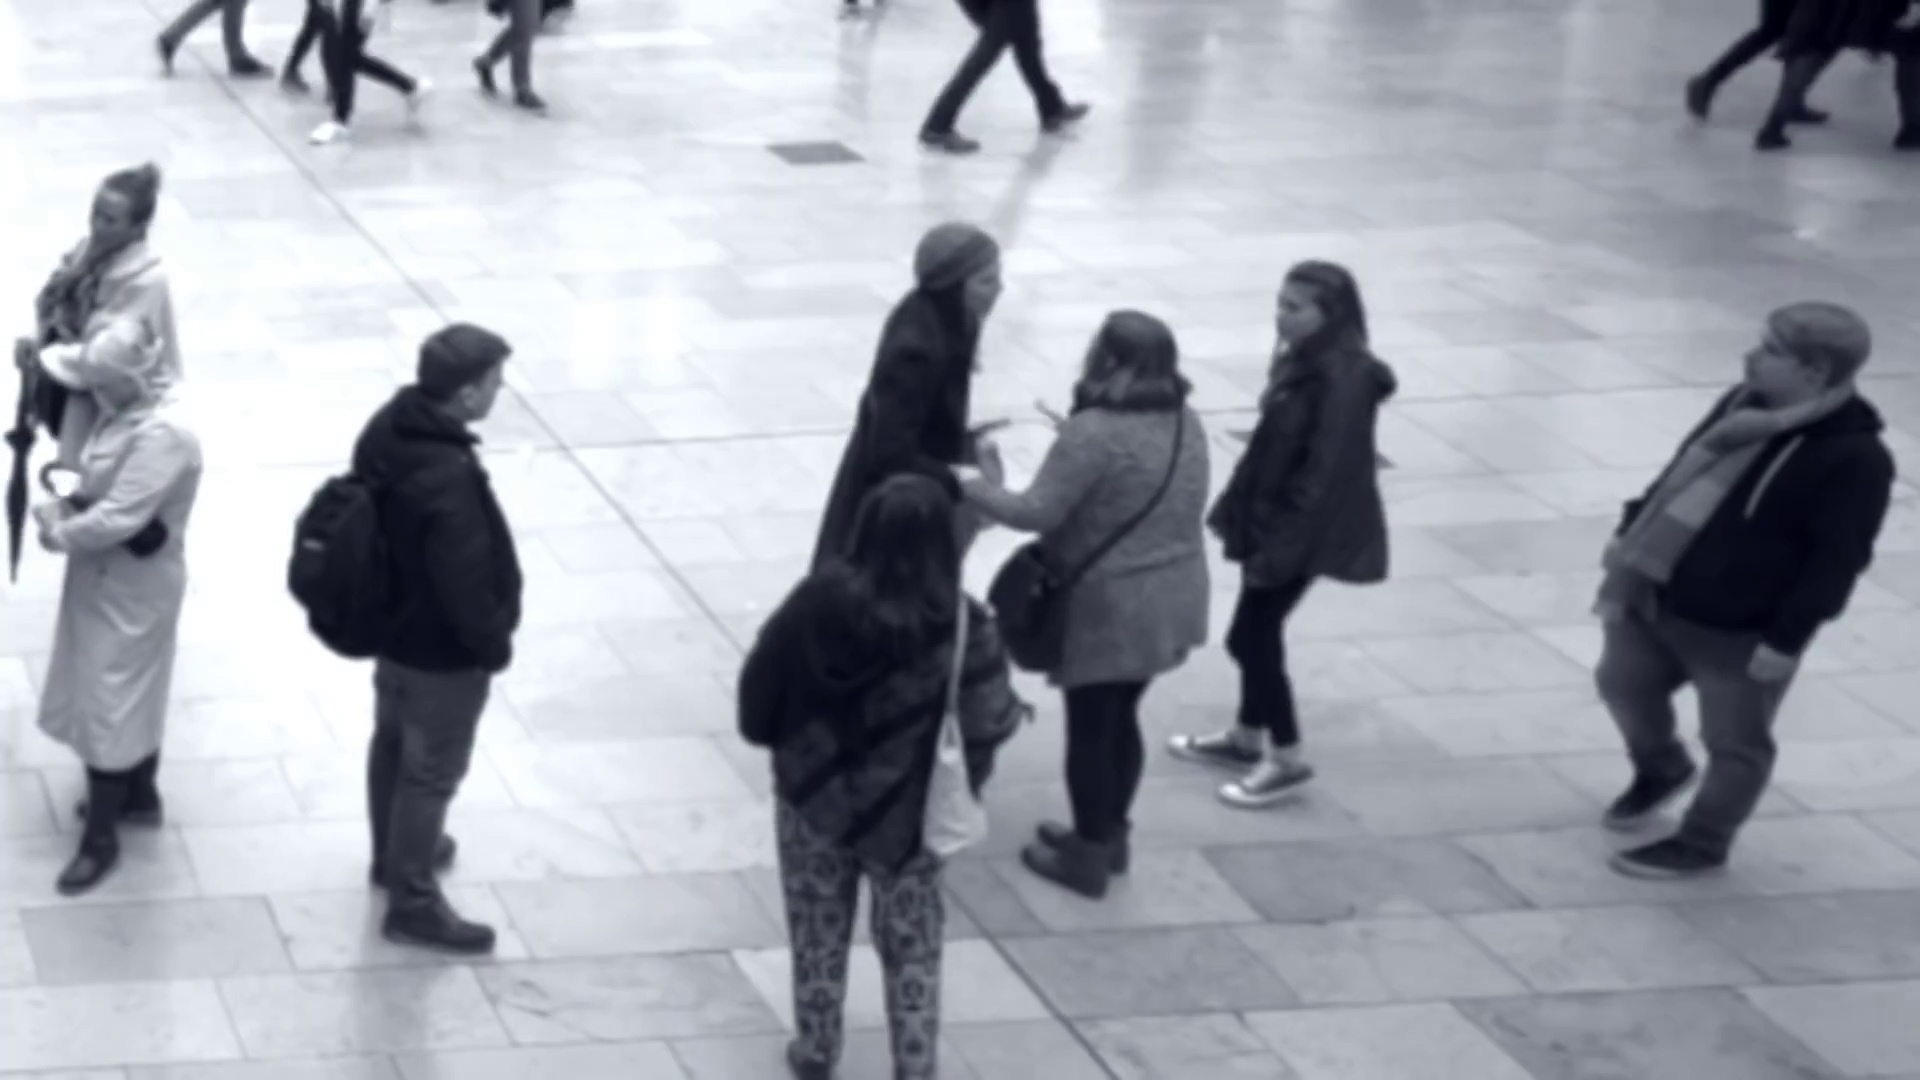face: (1735, 320, 1819, 414), (955, 254, 1012, 317), (1270, 285, 1326, 345), (85, 194, 135, 245)
